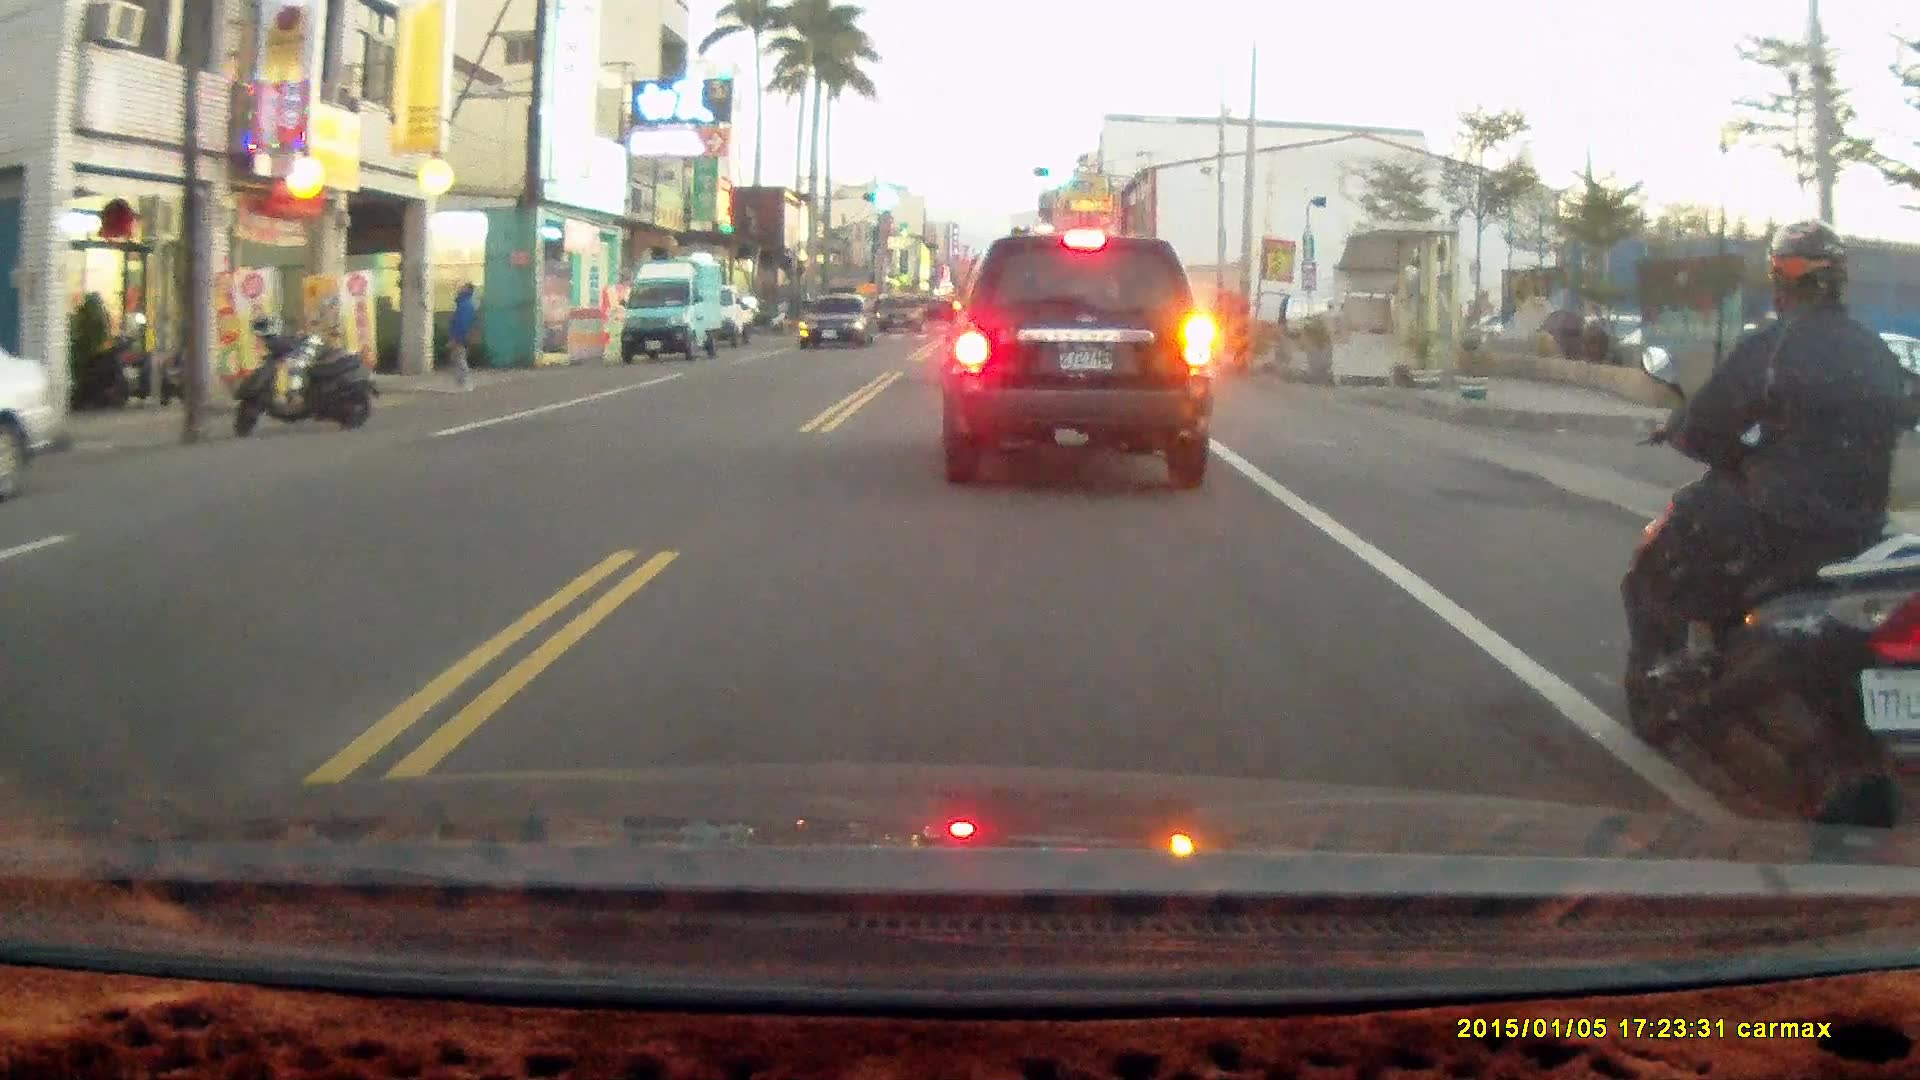pedestrian: (447, 277, 481, 392)
rider: (1620, 218, 1920, 846)
vehicle: (936, 230, 1218, 486), (618, 263, 726, 366), (1, 349, 69, 504), (799, 295, 882, 351), (875, 294, 925, 333)
